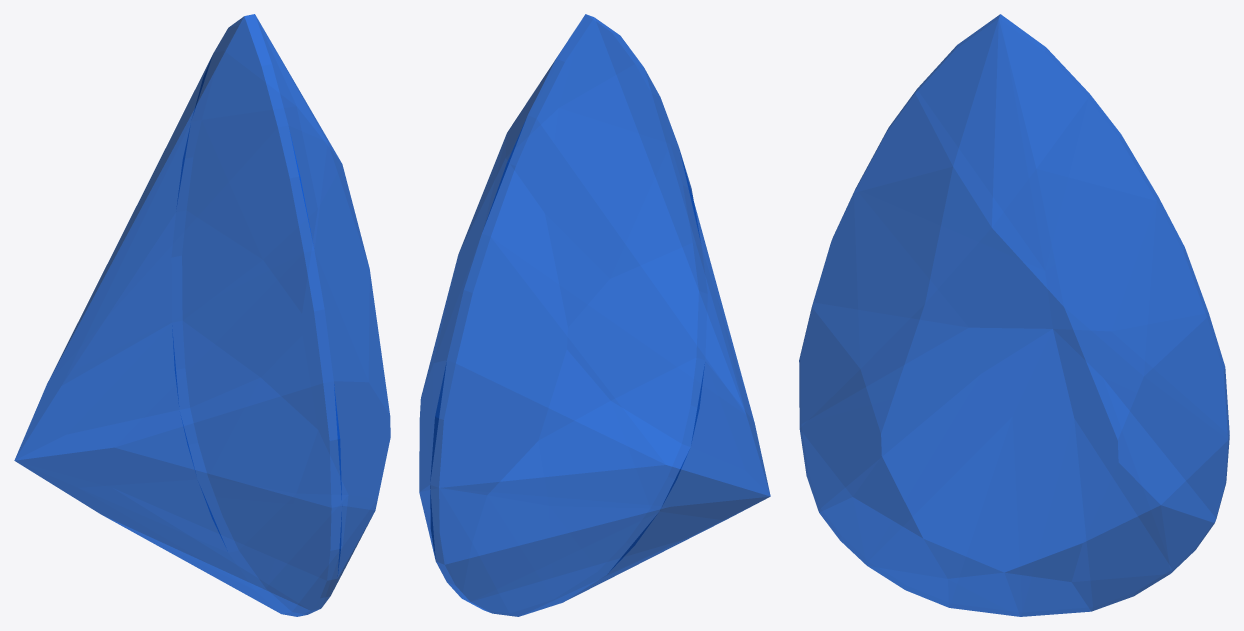
File: pear lazulli.glb
3 renders of one model, left to right at view 1: azimuth 30°, elevation 25°; view 2: azimuth 150°, elevation 25°; view 3: azimuth 270°, elevation 25°, orthographic.
Parts seen in each view (by area): view 1: Pear (tear); view 2: Pear (tear); view 3: Pear (tear).
Part boxes in pixels (left/top/right/bottom): Pear (tear): left=14, top=14, right=390, bottom=616; Pear (tear): left=419, top=14, right=770, bottom=616; Pear (tear): left=799, top=14, right=1229, bottom=616.
Bounding box in the file's own units: 1.19 × 2.09 × 1.39.
